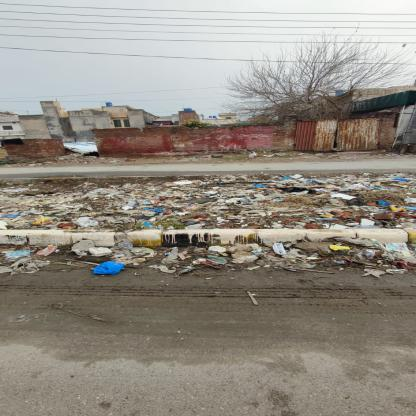Garbage: (3, 174, 416, 282)
